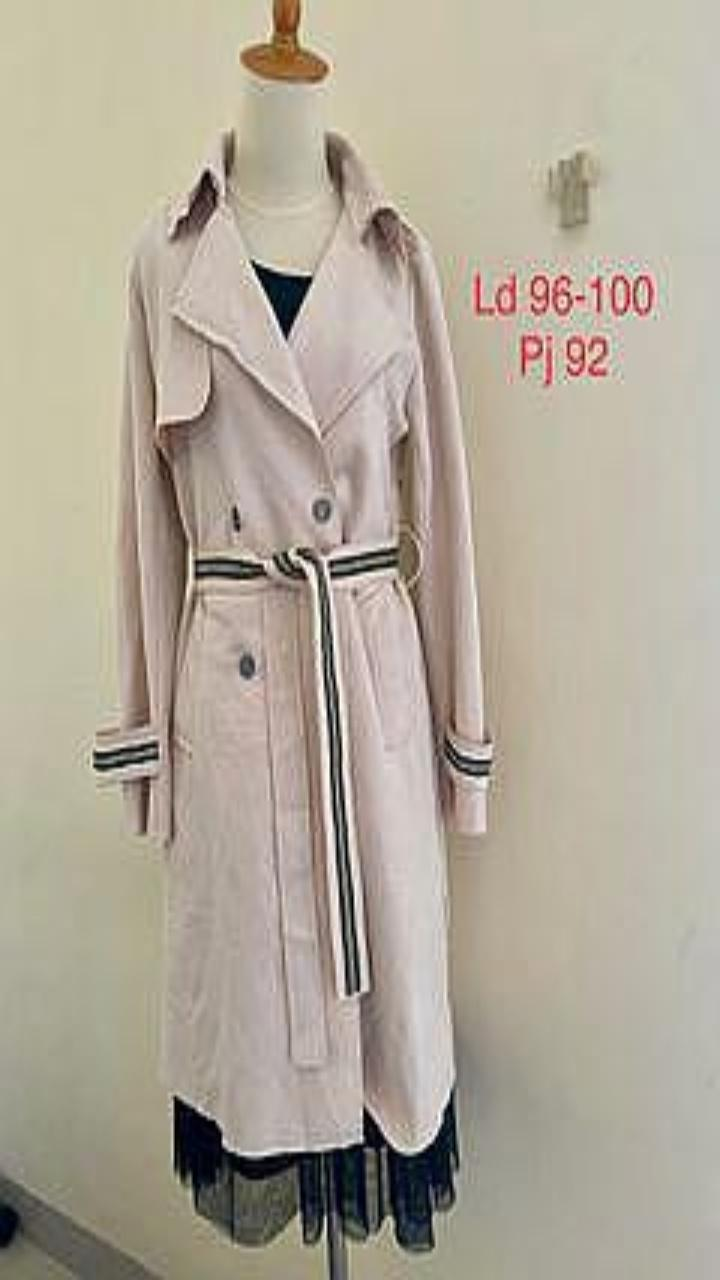Coat: (93, 129, 492, 1154)
Dresses: (172, 1090, 458, 1251)
